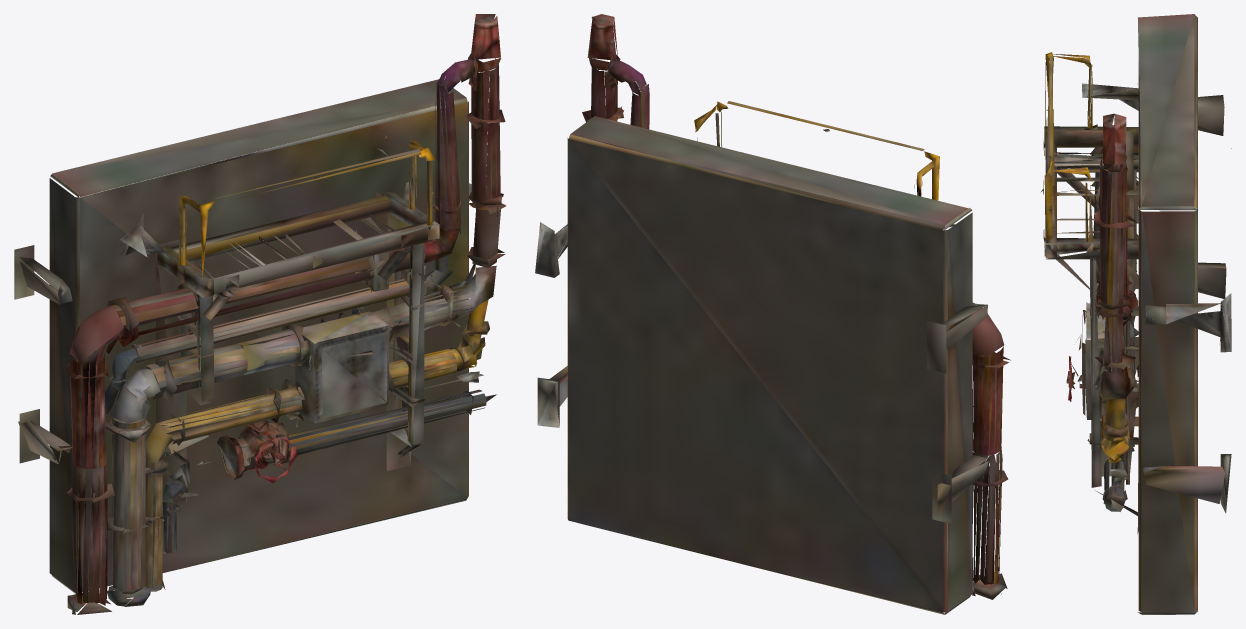
Rendered from pipes-far.glb.
3 renders of one model, left to right at view 1: azimuth 30°, elevation 25°; view 2: azimuth 150°, elevation 25°; view 3: azimuth 270°, elevation 25°, orthographic. The views are drawn at different scales.
Visible parts, largest first — view 1: pipes; view 2: pipes; view 3: pipes.
Boxes of the visible parts, bbox=[...] form: pipes: bbox=[14, 14, 506, 614]; pipes: bbox=[535, 14, 1010, 614]; pipes: bbox=[1040, 14, 1231, 614].
Bounding box in the file's own units: 4.61 × 5.01 × 1.73.
1 material, 1 textured.
